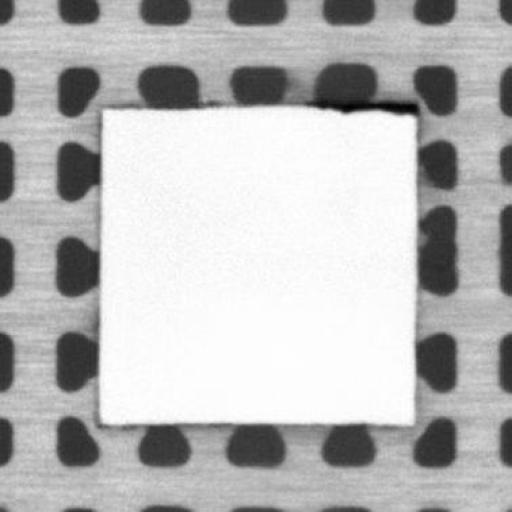DIE_BROKEN: (303, 96, 420, 115)
